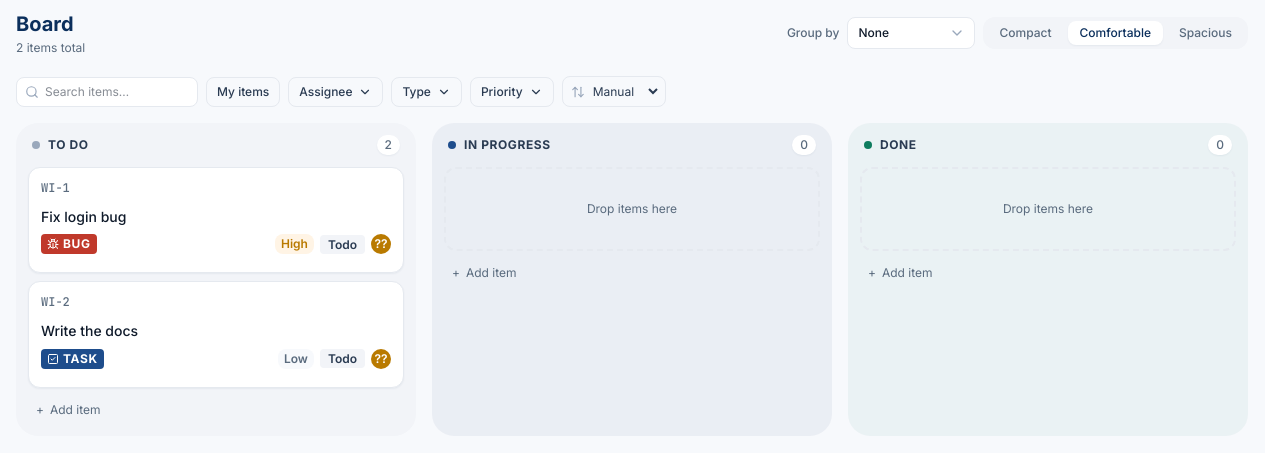
it: BoardView › "My items" shows only the current user's items
The image size is (1265, 453).
Click the button "My items": (243, 92) x1=206 y1=76 x2=280 y2=106
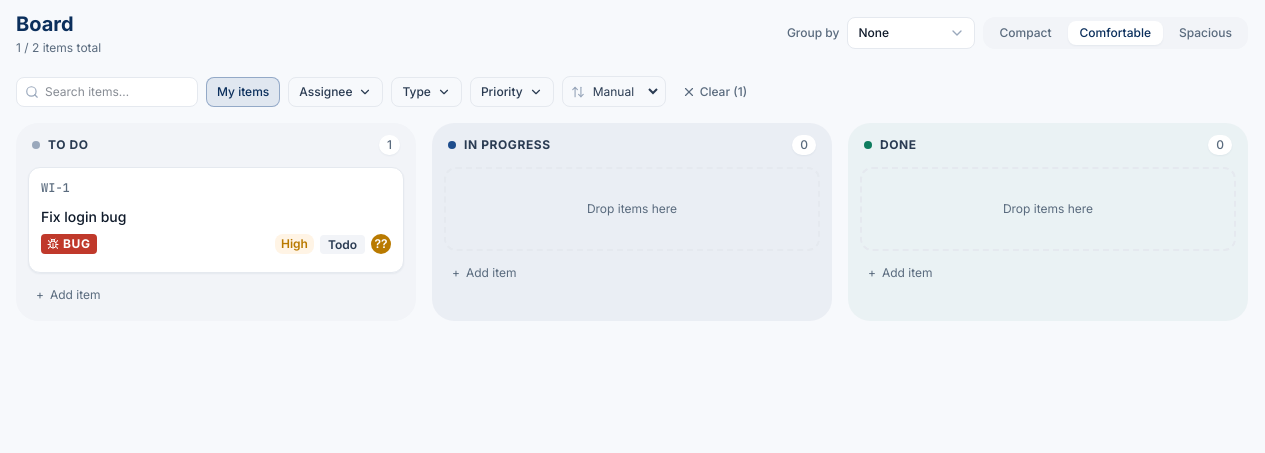
Expected: the button "Fix login bug" is shown, x1=41 y1=207 x2=391 y2=226
Expected: the button "Write the docs" is gone
